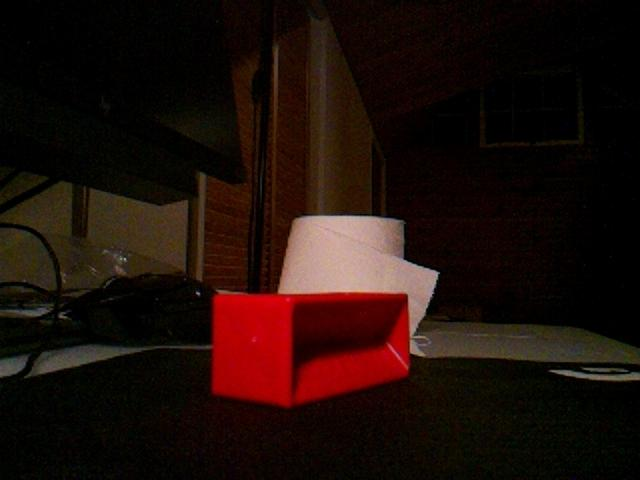red: (210, 291, 412, 409)
